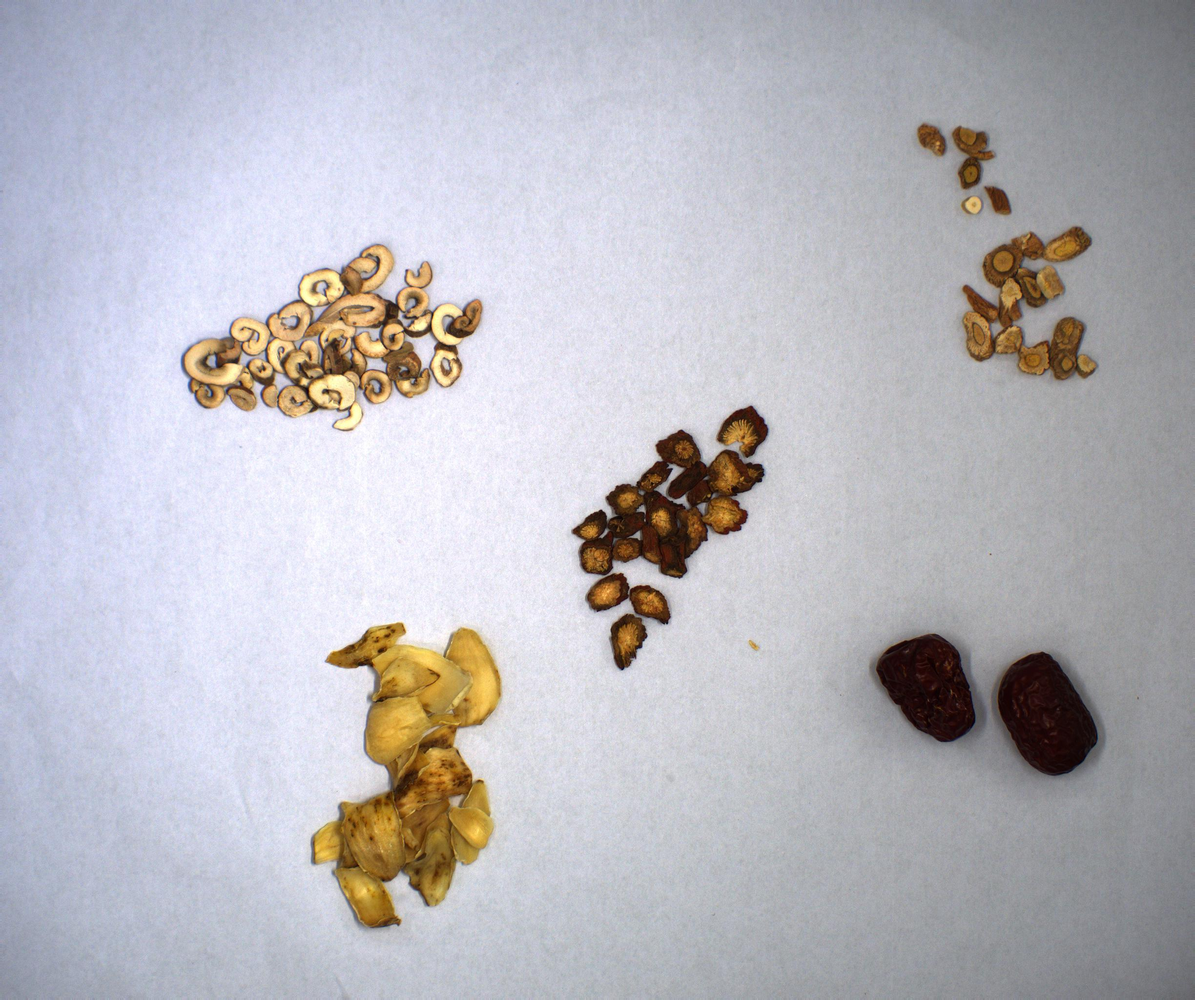baihe: (304, 620, 508, 935)
banlangen: (906, 111, 1112, 388)
danshen: (569, 401, 777, 681)
dazao: (866, 621, 1104, 785)
mudanpi: (169, 238, 492, 436)
